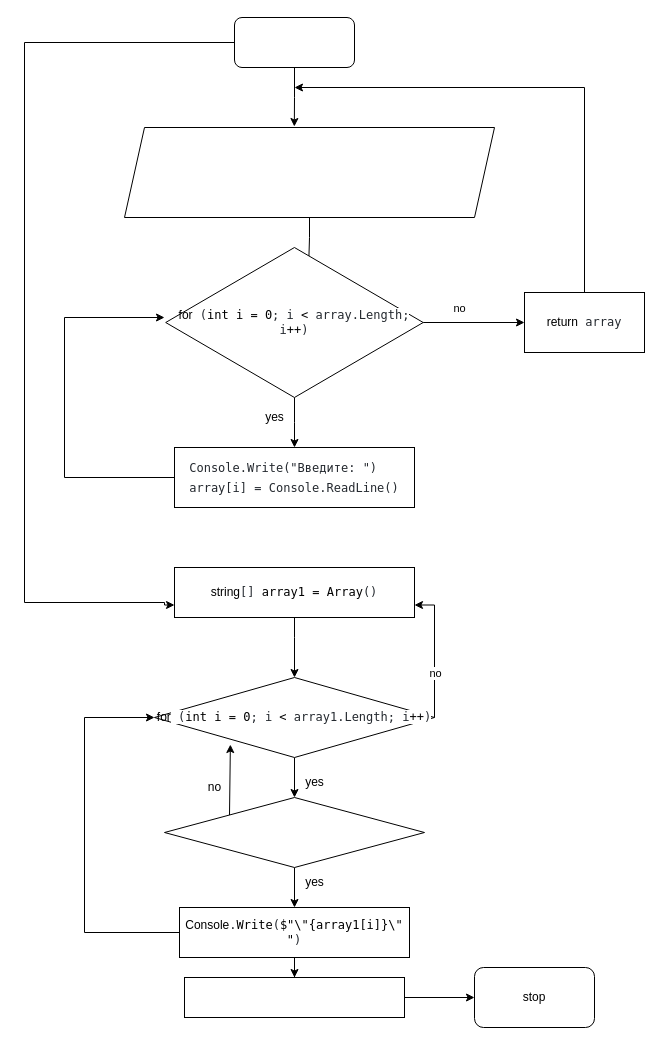
Image size: 662x1045. Some labels were removed from this diagram. The shapes that lost their labels are listed below. From the top down, each one's box as (x1, y1, x2, y2) in pixels, then its label:
(234, 16, 354, 68): Start
(124, 126, 494, 218): string [] array = new string [ new Random (). Next ( 1 , 5 )]
(164, 796, 424, 868): if ( array1 [ i ]. Length <= 3 )
(184, 976, 404, 1018): PrintArray ()
